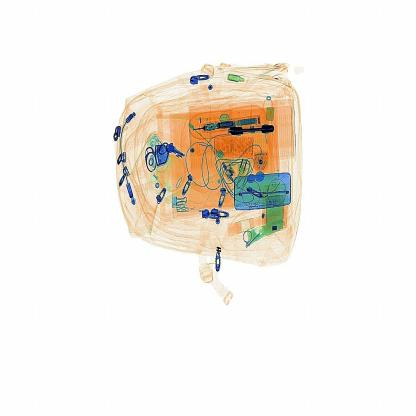knife: (224, 118, 280, 147)
